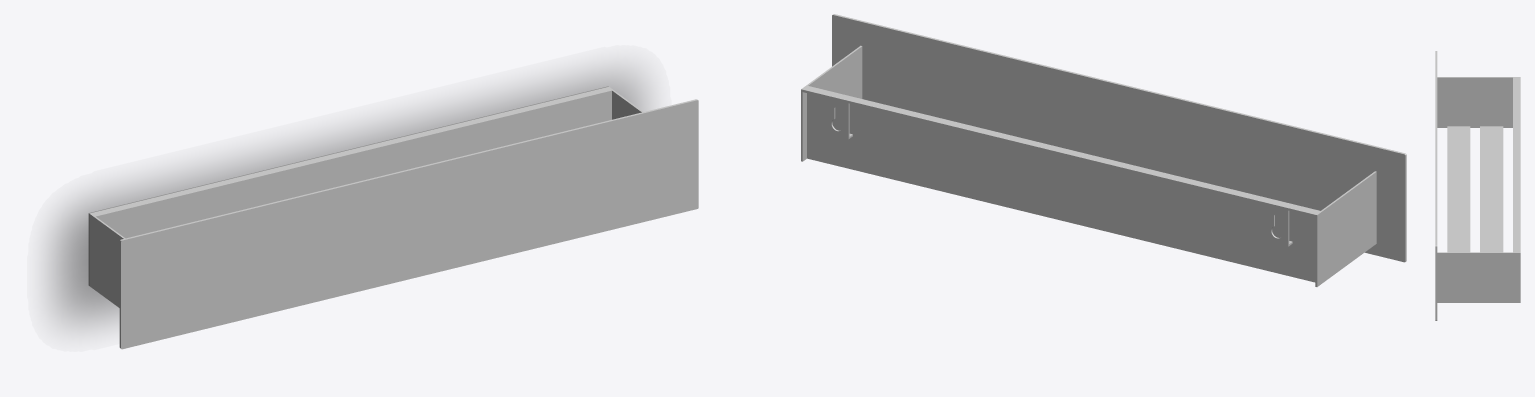
File: skyline-mono.e7f77b816b.ar.glb
3 views of the same model, side by side, from view 1: azimuth 30°, elevation 25°; view 2: azimuth 150°, elevation 25°; view 3: azimuth 270°, elevation 25° (orthographic). The views are drawn at different scales.
Visible parts, largest first — view 1: NAUO1, object 2; view 2: NAUO1; view 3: NAUO1.
Boxes of the visible parts, x1,y1,x2,y2 form: NAUO1: (88,86,698,349); object 2: (49,70,648,326); NAUO1: (801,14,1406,286); NAUO1: (1435,51,1520,320).
Size of the model in its own units: 0.58 by 0.17 by 0.092.
2 materials, 1 textured.
